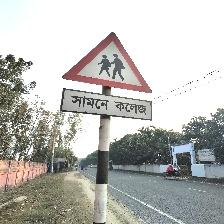College-in-front: (44, 34, 161, 151)
